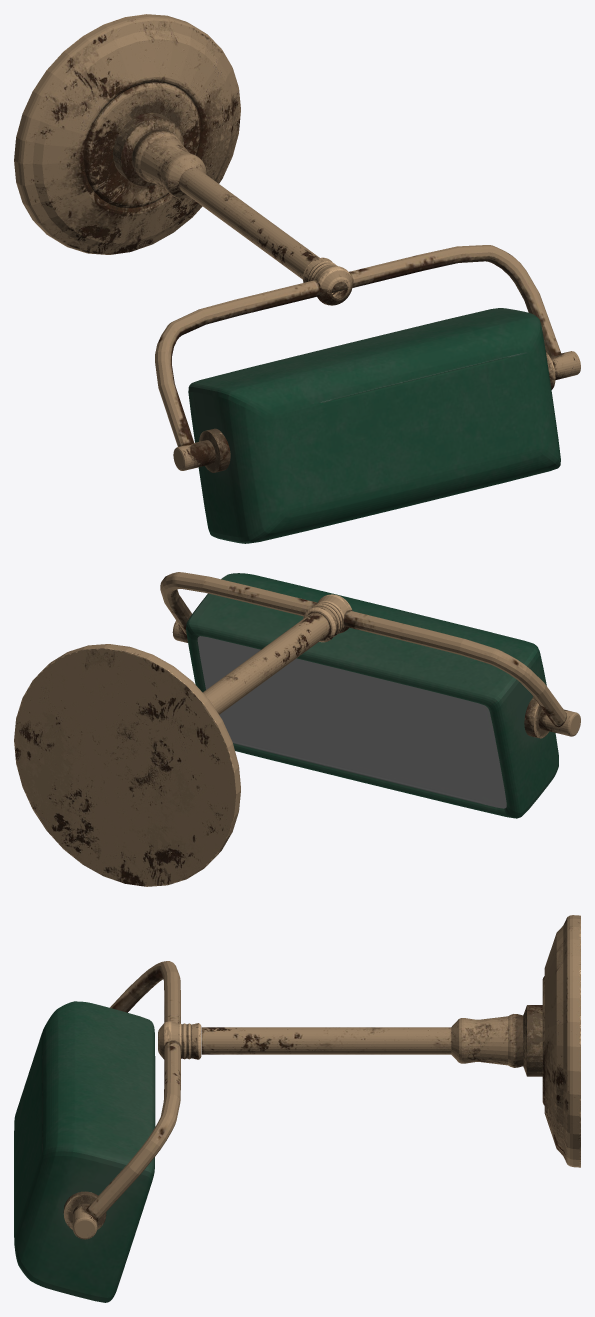
3 views of the same model, one above another, from view 1: azimuth 30°, elevation 25°; view 2: azimuth 150°, elevation 25°; view 3: azimuth 270°, elevation 25° (orthographic).
Size of the model in its own units: 0.7959 by 0.5899 by 1.
